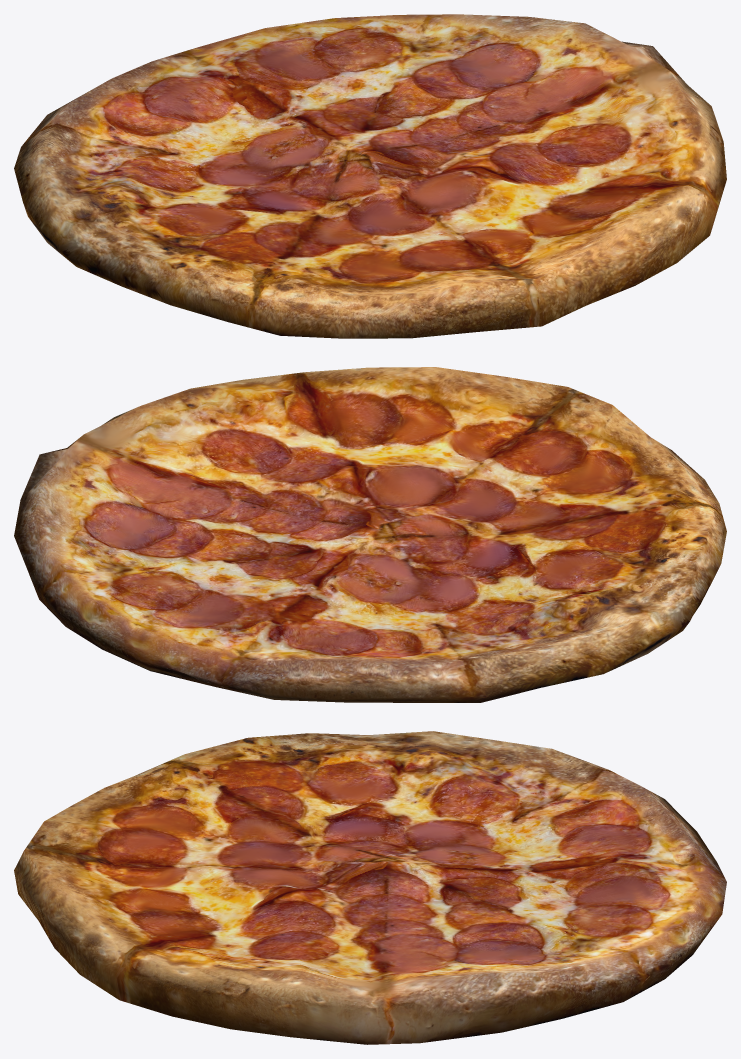
The model's file is Pizza.glb.
3 renders of one model, top to bottom at view 1: azimuth 30°, elevation 25°; view 2: azimuth 150°, elevation 25°; view 3: azimuth 270°, elevation 25°, orthographic.
Visible parts, largest first — view 1: Pizza; view 2: Pizza; view 3: Pizza.
Boxes of the visible parts, x1,y1,x2,y2 form: Pizza: (14, 14, 726, 338); Pizza: (14, 367, 726, 702); Pizza: (14, 731, 726, 1044).
Bounding box in the file's own units: 0.329 × 0.0302 × 0.3312.
1 material, 1 textured.
